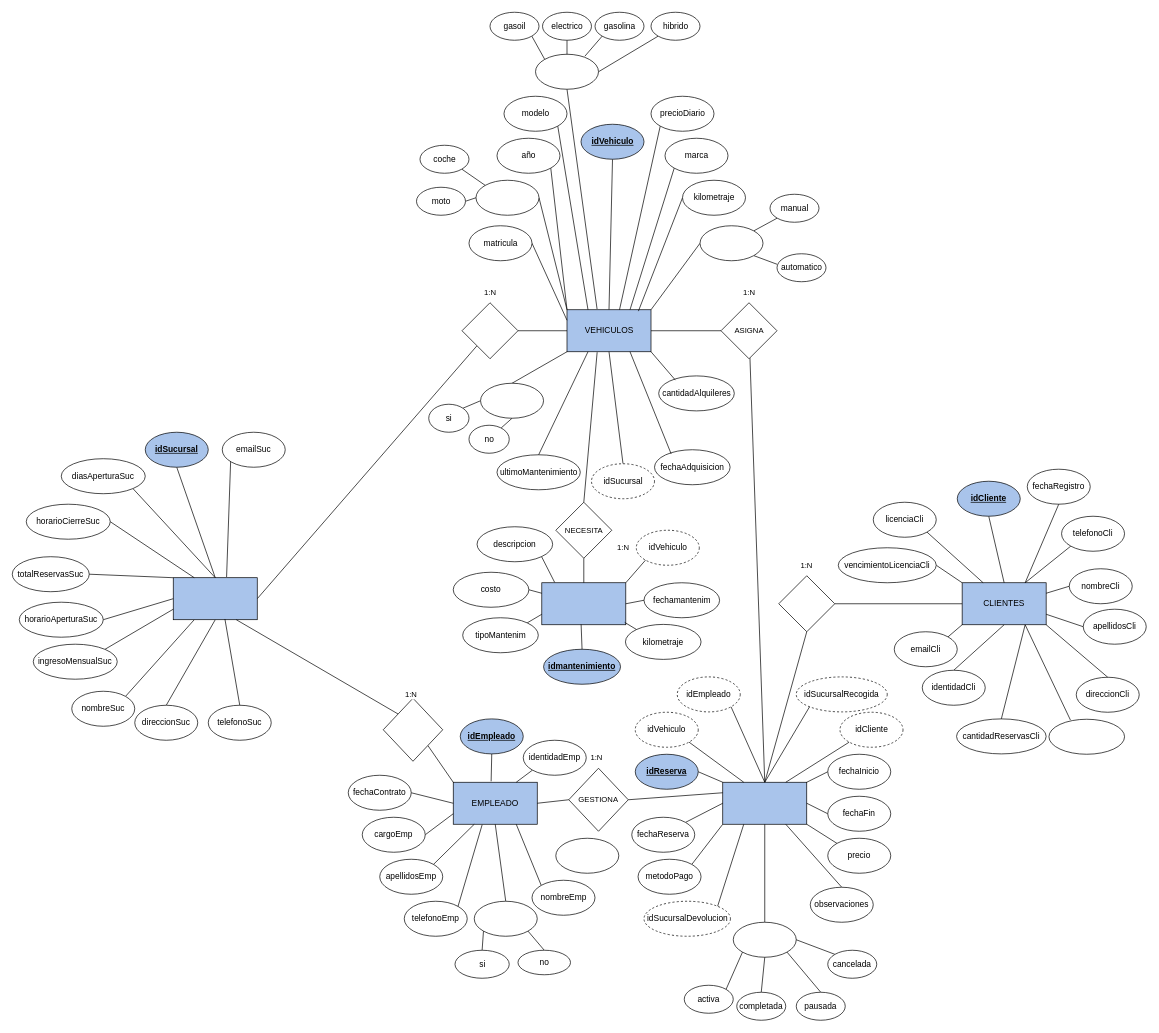
Image size: 1159x1033. Some labels were removed from this diagram. Each missing label, with the box of its shape:
activo: (474, 901, 537, 936)
combustible: (535, 54, 598, 89)
disponible: (480, 383, 544, 418)
emailEmp: (555, 838, 619, 873)
estado: (733, 922, 796, 957)
MANTENIMIENTO: (541, 582, 626, 625)
REALIZA: (778, 575, 835, 632)
RESERVAS: (722, 782, 807, 824)
SUCURSAL: (173, 577, 257, 620)
TIENE: (461, 302, 518, 359)
TIENE ASIGNADO: (383, 698, 443, 761)
tipo: (475, 180, 539, 215)
transmision: (699, 225, 763, 261)
valorTotalAlquiler: (1048, 719, 1125, 754)
